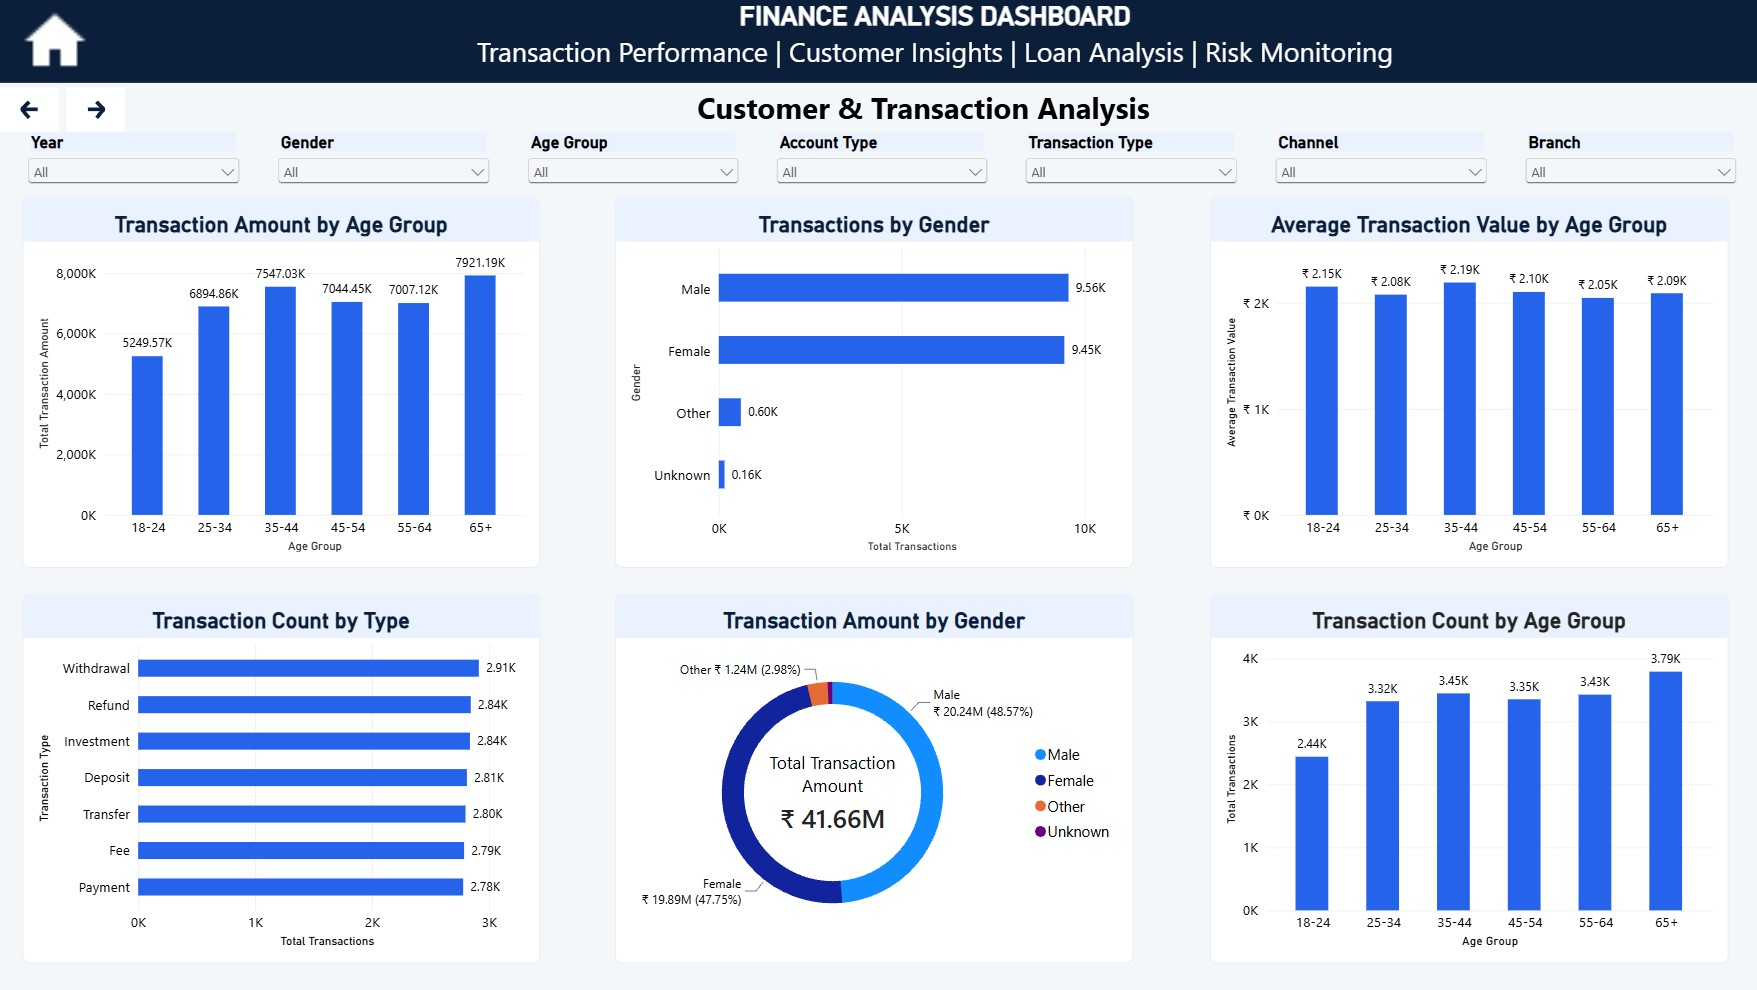

Layout of this report page (visuals, bound fields, positions):
{"tool":"powerbi","page":{"name":"Customer & Transaction Analysis","canvas":[1920,1080],"ordinal":2},"visuals":[{"type":"clusteredColumnChart","title":"Transaction Amount by Age Group","fields":{"Category":["Finance.Age_Group"],"Y":["Finance.Total Transaction Amount"]},"box":[24,216,565,403.9],"z":0},{"type":"clusteredBarChart","title":"Transactions by Gender","fields":{"Category":["Finance.Gender"],"Y":["Finance.Total Transactions"]},"box":[671.5,216,565.9,403.9],"z":1000},{"type":"clusteredBarChart","title":"Transaction Count by Type","fields":{"Category":["Finance.Transaction_Type"],"Y":["Finance.Total Transactions"]},"box":[24,648,565,403],"z":2000},{"type":"donutChart","title":"Transaction Amount by Gender","fields":{"Category":["Finance.Gender"],"Y":["Finance.Total Transaction Amount"]},"box":[671.5,648,565.9,403],"z":3000},{"type":"clusteredColumnChart","title":"Average Transaction Value by Age Group","fields":{"Category":["Finance.Age_Group"],"Y":["Finance.Average Transaction Value"]},"box":[1320,216,565.9,403.9],"z":4000},{"type":"clusteredColumnChart","title":"Transaction Count  by Age Group","fields":{"Category":["Finance.Age_Group"],"Y":["Finance.Total Transactions"]},"box":[1320,648,565.9,403],"z":5000},{"type":"shape","title":"FINANCE ANALYSIS DASHBOARD","box":[120,0,1800,90],"z":6000},{"type":"shape","title":"Customer & Transaction Analysis","box":[96,96,1824,48],"z":7000},{"type":"slicer","fields":{"Values":["Finance.Transaction_Date.Variation.Date Hierarchy.Year"]},"box":[25.7,144.1,240.2,74.5],"z":8000},{"type":"slicer","fields":{"Values":["Finance.Gender"]},"box":[298.3,144.1,240.2,74.5],"z":9000},{"type":"slicer","fields":{"Values":["Finance.Age_Group"]},"box":[570.9,144.1,239.2,74.6],"z":10000},{"type":"slicer","fields":{"Values":["Finance.Account_Type"]},"box":[842.5,144.1,239.2,72],"z":11000},{"type":"slicer","fields":{"Values":["Finance.Transaction_Type"]},"box":[1114,144.1,240.2,72.5],"z":12000},{"type":"slicer","fields":{"Values":["Finance.Channel"]},"box":[1386.6,144.1,240.2,72.5],"z":13000},{"type":"slicer","fields":{"Values":["Finance.Branch"]},"box":[1659.2,144.1,239.2,72],"z":14000},{"type":"actionButton","box":[0,96,64,48],"z":15000},{"type":"actionButton","box":[72,96,64,48],"z":16000},{"type":"image","box":[0,0,120,90],"z":17000}]}

Visuals, with their boxes in screenshot pixels (x1, y1, x2, y2), scaled from the page's 1920x1080 canvas onto the 1757x990 screenshot:
"Transaction Amount by Age Group" clusteredColumnChart: select_region(22, 198, 539, 568)
"Transactions by Gender" clusteredBarChart: select_region(614, 198, 1132, 568)
"Transaction Count by Type" clusteredBarChart: select_region(22, 594, 539, 963)
"Transaction Amount by Gender" donutChart: select_region(614, 594, 1132, 963)
"Average Transaction Value by Age Group" clusteredColumnChart: select_region(1208, 198, 1726, 568)
"Transaction Count  by Age Group" clusteredColumnChart: select_region(1208, 594, 1726, 963)
"FINANCE ANALYSIS DASHBOARD" shape: select_region(110, 0, 1756, 82)
"Customer & Transaction Analysis" shape: select_region(88, 88, 1756, 132)
slicer - Finance.Transaction_Date.Variation.Date Hierarchy.Year: select_region(24, 132, 243, 200)
slicer - Finance.Gender: select_region(273, 132, 493, 200)
slicer - Finance.Age_Group: select_region(522, 132, 741, 200)
slicer - Finance.Account_Type: select_region(771, 132, 990, 198)
slicer - Finance.Transaction_Type: select_region(1019, 132, 1239, 199)
slicer - Finance.Channel: select_region(1269, 132, 1489, 199)
slicer - Finance.Branch: select_region(1518, 132, 1737, 198)
actionButton: select_region(0, 88, 59, 132)
actionButton: select_region(66, 88, 124, 132)
image: select_region(0, 0, 110, 82)
